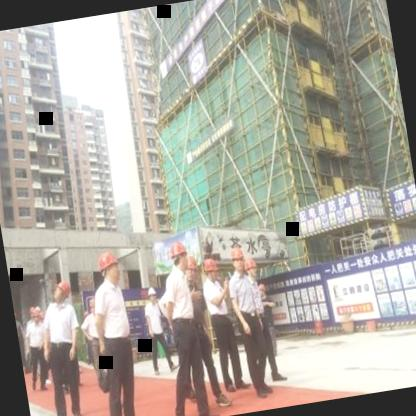helmet: (92, 244, 127, 287), (166, 236, 190, 272), (46, 276, 72, 304), (180, 248, 200, 284), (228, 245, 247, 276), (200, 256, 219, 283), (142, 282, 161, 306), (243, 257, 259, 281)
